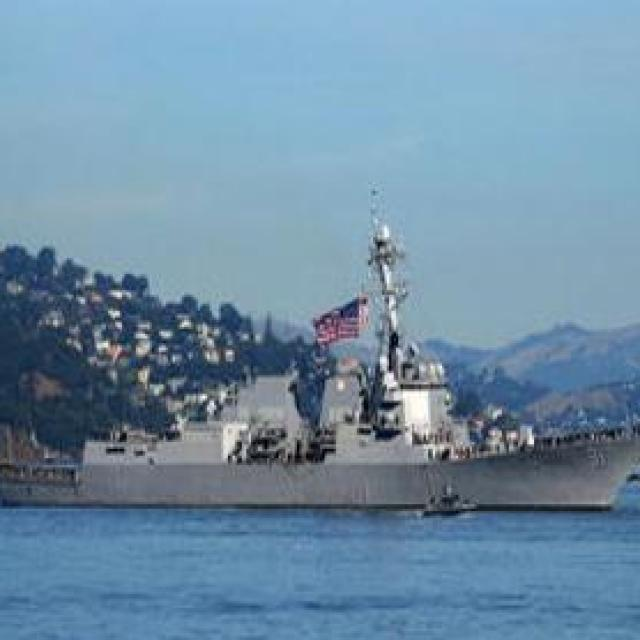navalvessels: (0, 221, 640, 543)
